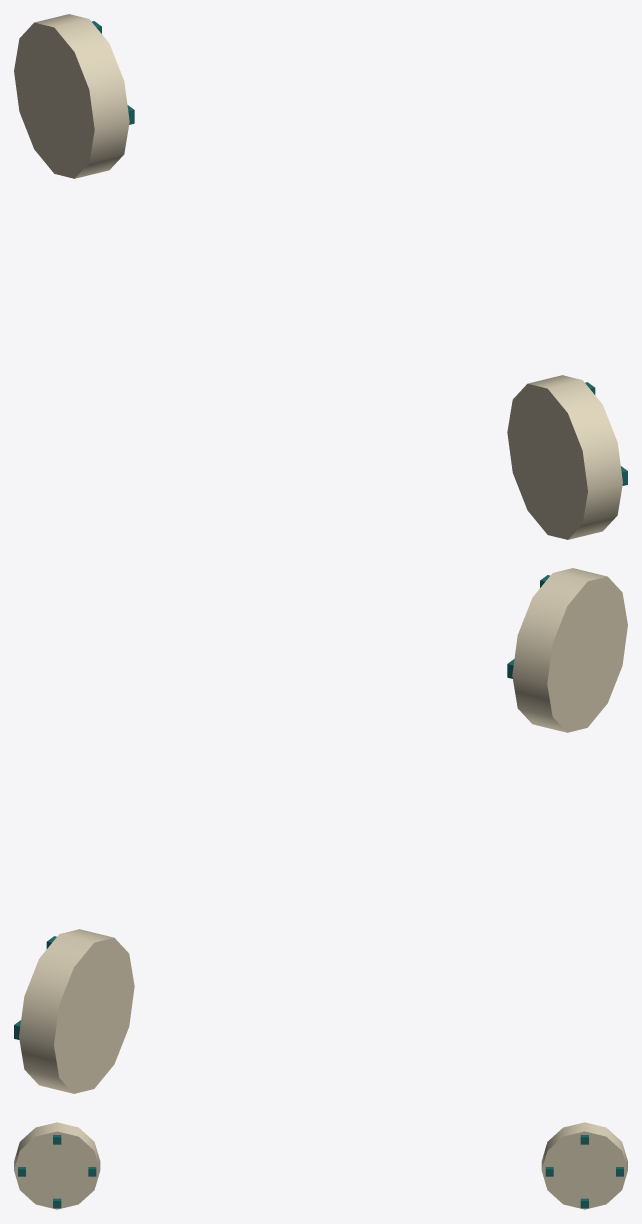
File: kpfe_mount.obj
The picture shows the model from 3 angles, top to bottom: view 1: azimuth 30°, elevation 25°; view 2: azimuth 150°, elevation 25°; view 3: azimuth 270°, elevation 25°; orthographic projection. The views are drawn at different scales.
Parts seen in each view (by area): view 1: kpfe_mount; view 2: kpfe_mount; view 3: kpfe_mount.
Part boxes in pixels (x1,y1,x2,y2): kpfe_mount: (14, 14, 627, 539); kpfe_mount: (14, 568, 627, 1093); kpfe_mount: (14, 1122, 627, 1209).
Bounding box in the file's own units: 0.1 × 0.32 × 2.28.
